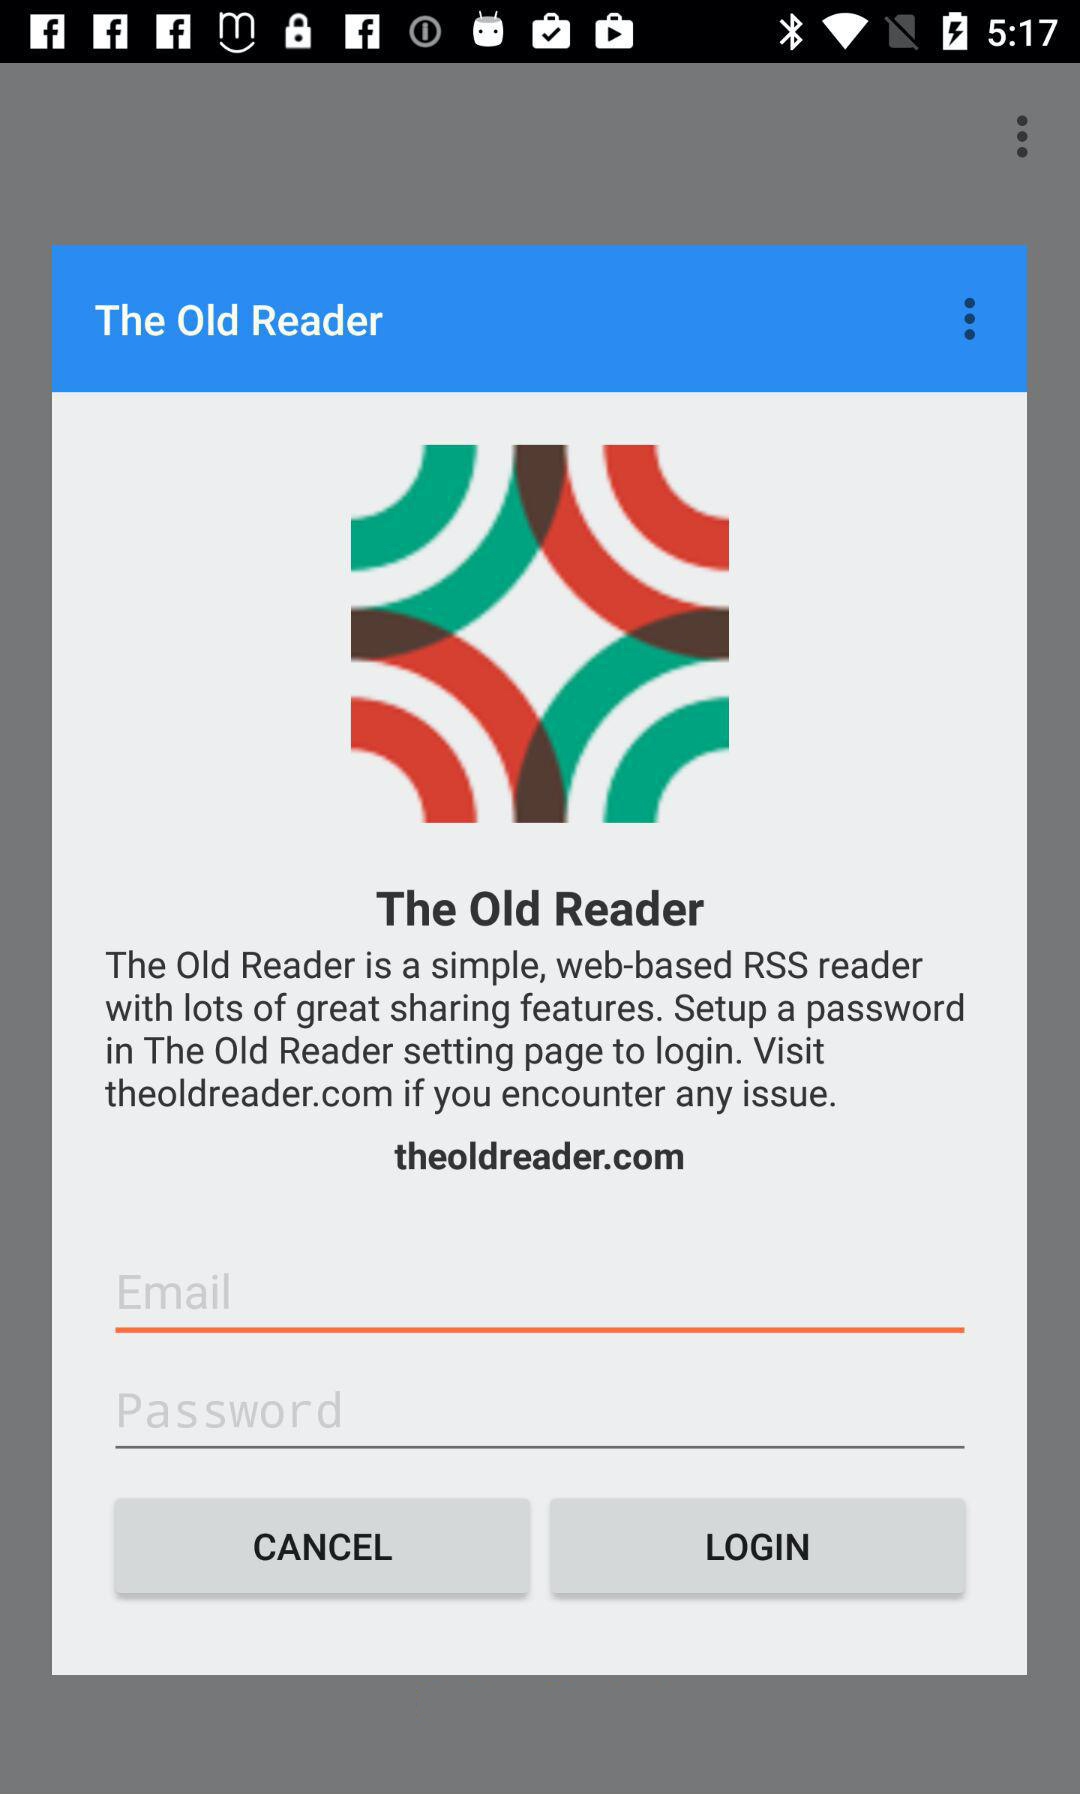EditText: (115, 1272, 967, 1334), (115, 1390, 966, 1451)
Icon: (963, 297, 976, 341), (1016, 115, 1027, 159)
Image: (354, 445, 728, 821)
Modal: (53, 245, 1027, 1676)
Text: (106, 950, 965, 1116), (377, 889, 705, 926), (97, 302, 384, 338), (120, 1390, 343, 1429), (119, 1272, 231, 1311)
TextButton: (550, 1498, 966, 1598), (115, 1498, 530, 1597), (392, 1126, 689, 1184)
UpperTaskBar: (1, 1, 1080, 64)
